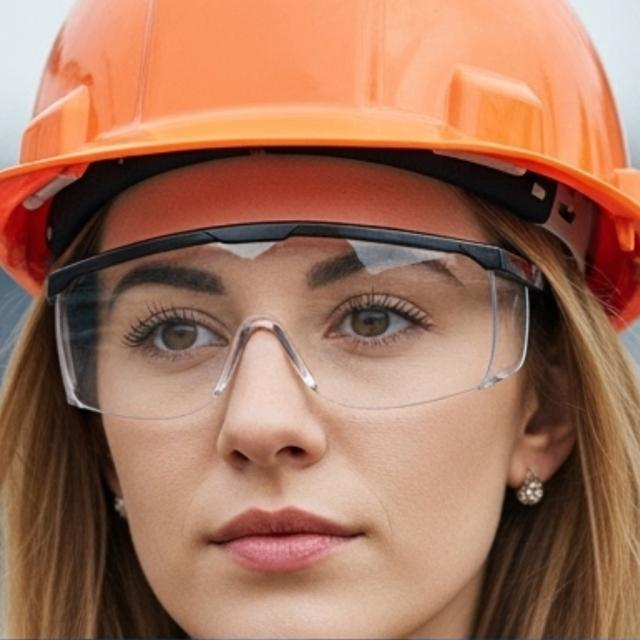oculos-epi: (47, 222, 544, 423)
